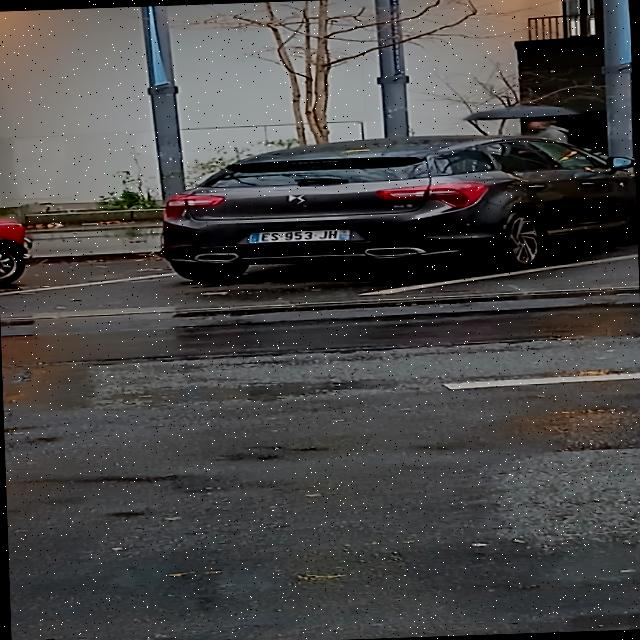EU: (248, 229, 350, 245)
France: (250, 232, 258, 242)
